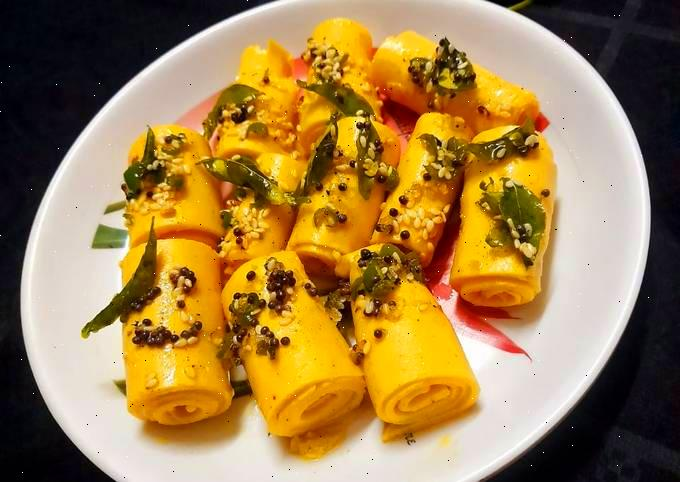khandvi: (130, 43, 584, 470)
